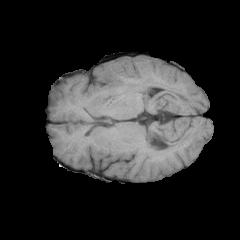glioma: (90, 56, 166, 95)
